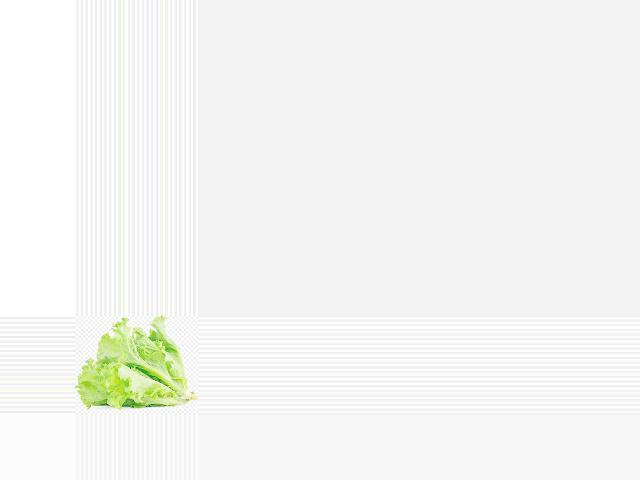lettuce: (77, 316, 198, 406)
